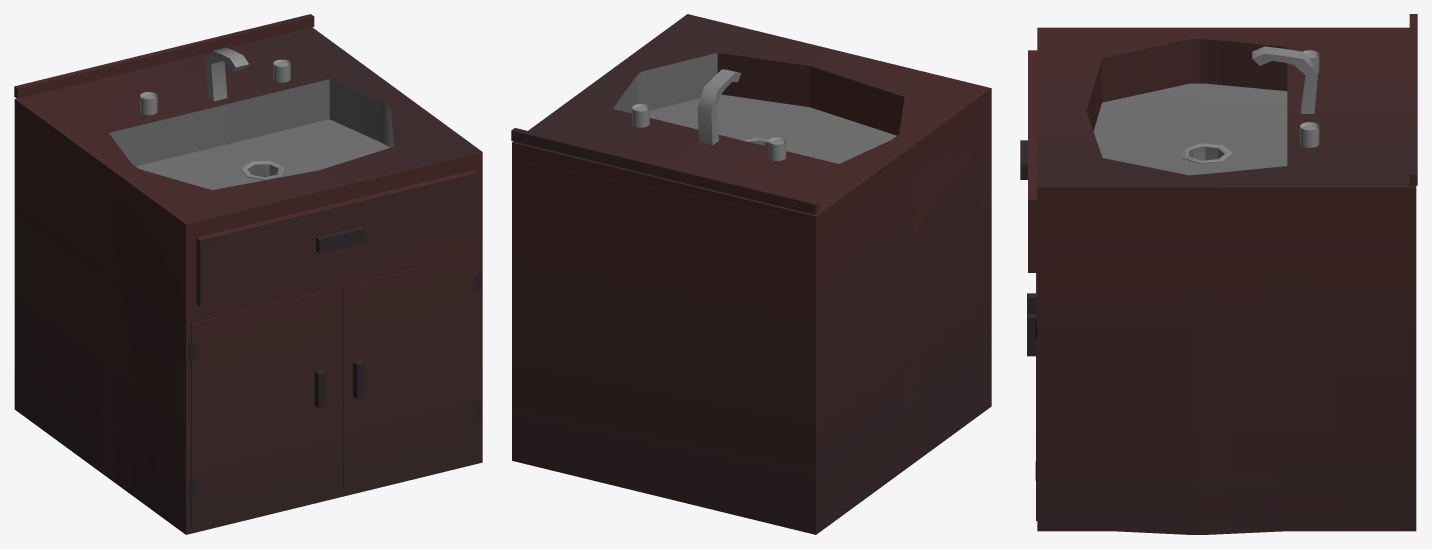
The model's file is piletacontextura.fbx.
The picture shows the model from 3 angles, left to right: view 1: azimuth 30°, elevation 25°; view 2: azimuth 150°, elevation 25°; view 3: azimuth 270°, elevation 25°; orthographic projection. The views are drawn at different scales.
Visible parts, largest first — view 1: pCube1; view 2: pCube1; view 3: pCube1.
Part boxes in pixels (bbox=[...]): pCube1: bbox=[14, 14, 482, 534]; pCube1: bbox=[511, 14, 991, 534]; pCube1: bbox=[1020, 14, 1417, 534].
Bounding box in the file's own units: 104 × 118 × 105.
1 material, 1 textured.
